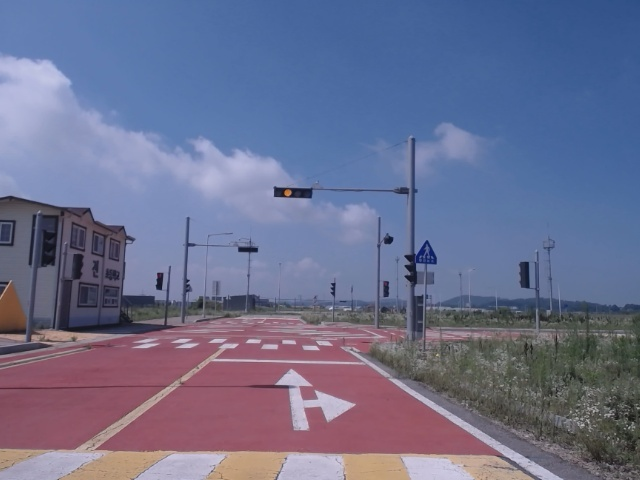orange_4: (273, 186, 312, 199)
